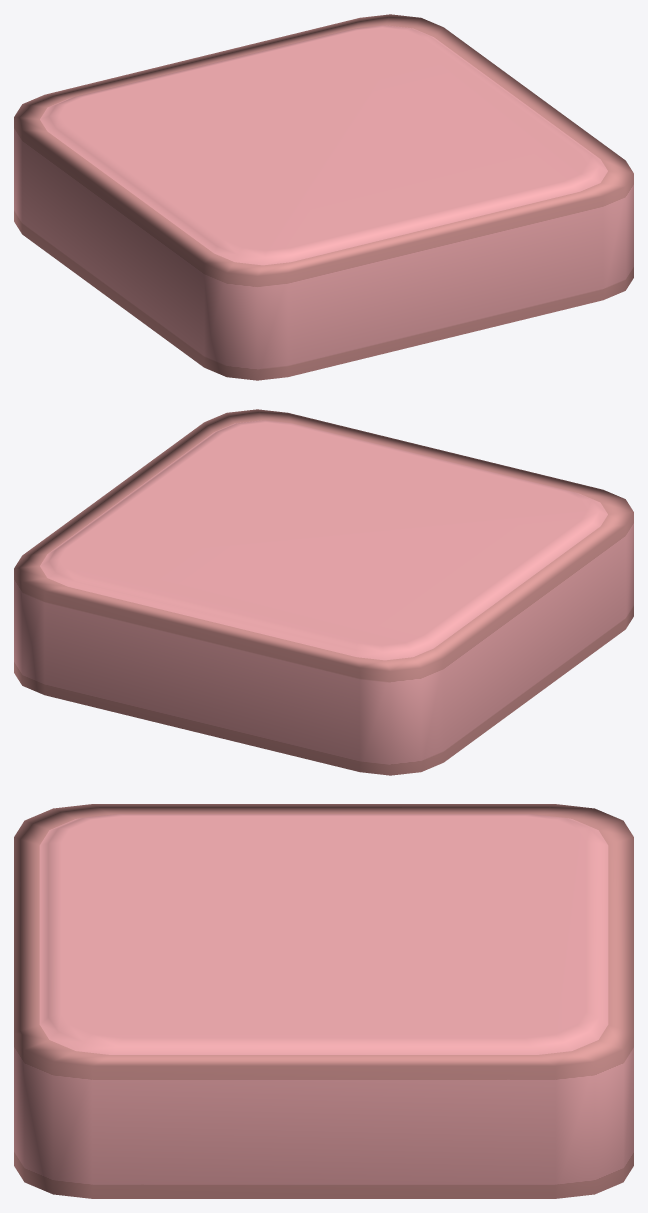
File: MEC0110007.fbx
3 renders of one model, top to bottom at view 1: azimuth 30°, elevation 25°; view 2: azimuth 150°, elevation 25°; view 3: azimuth 270°, elevation 25°, orthographic. The views are drawn at different scales.
Parts seen in each view (by area): view 1: smMEC0110007; view 2: smMEC0110007; view 3: smMEC0110007.
Part boxes in pixels (<box>): smMEC0110007: <box>14,14,633,380</box>; smMEC0110007: <box>14,409,633,775</box>; smMEC0110007: <box>14,804,633,1198</box>.
Bounding box in the file's own units: 254 × 67.04 × 254.
1 material, 1 textured.
